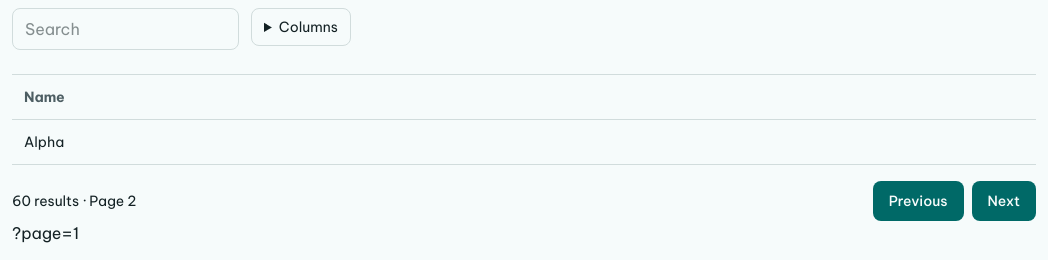
Test: DataTable › stores search and pagination in the URL
This screenshot has width=1048, height=260.
Type "abc" into the field labelled "Search".
click(126, 29); type("abc")  # box [12,8,239,50]
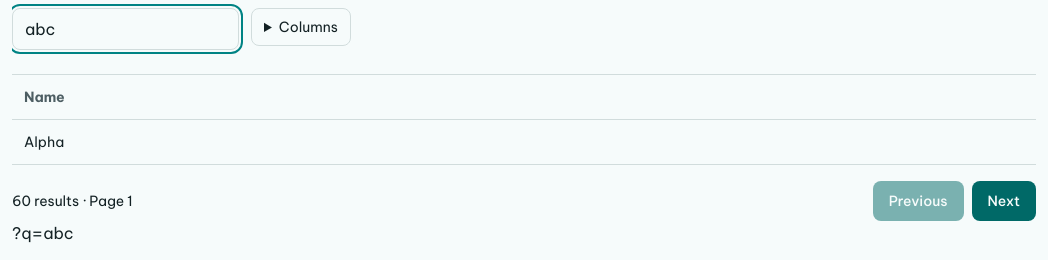
Result: the text with test id "location" reads "?q=abc" at [12,223,74,243]
Click the button "Next".
click(1004, 201)  # box [972,181,1036,221]
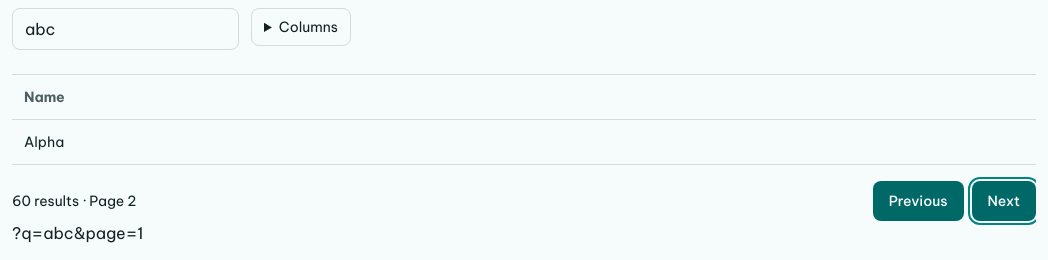
Result: the text with test id "location" shows "page=1" at [12,223,144,243]
